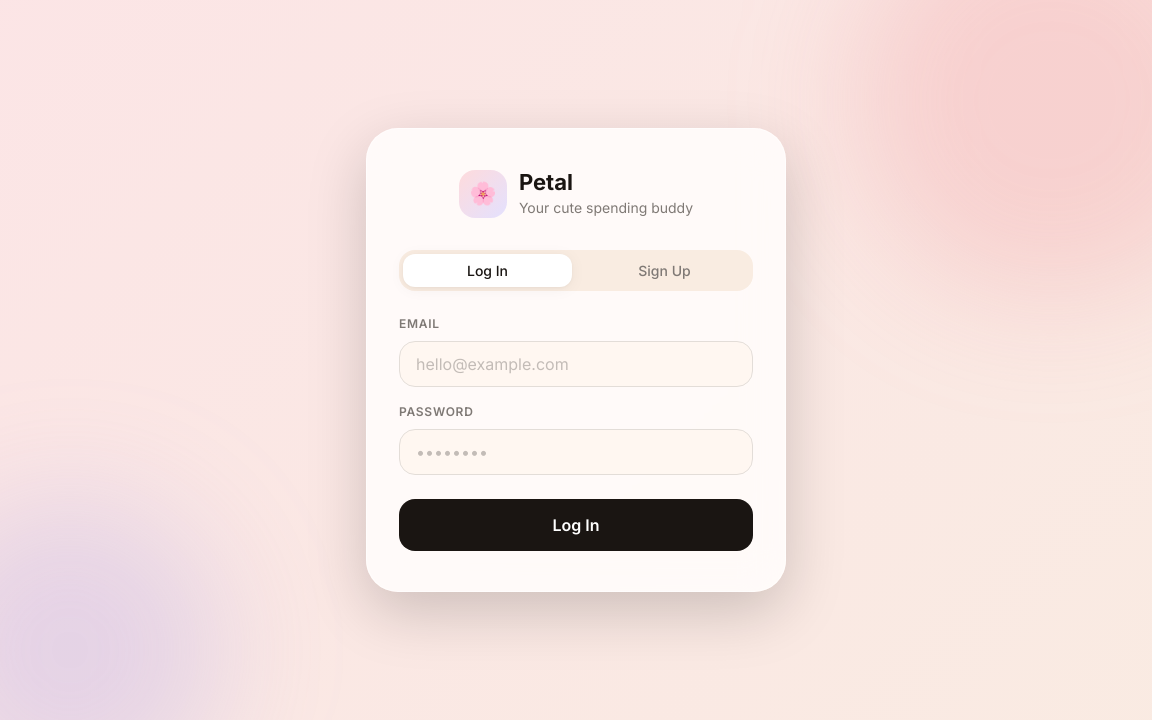
AuthPage › switches to sign up mode
Step 1. Click the tab "Sign Up" → point(664, 270), box top-left (580, 254), bottom-right (749, 287)
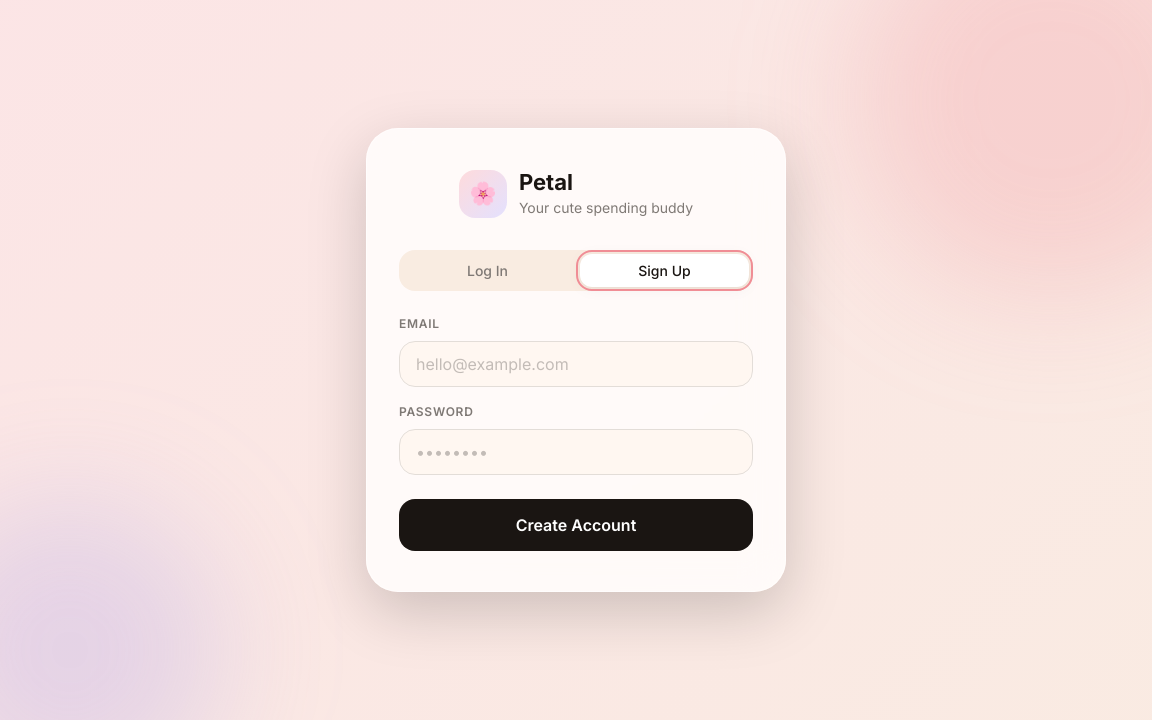
Result: the button "Create Account" is shown at top-left (399, 499), bottom-right (753, 551)
